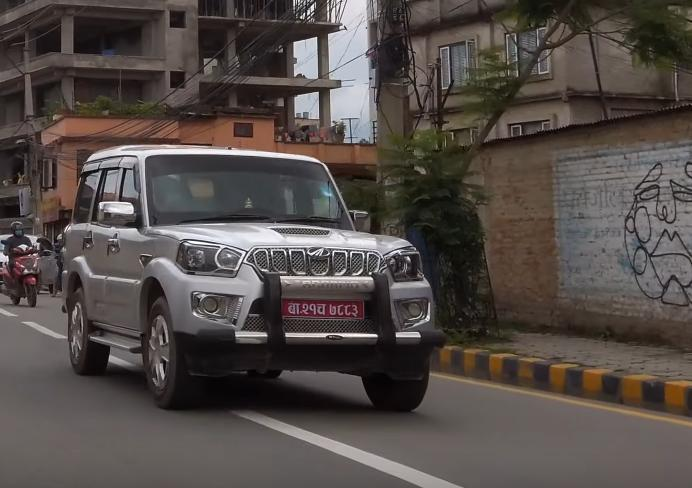SUV: (61, 142, 447, 429)
